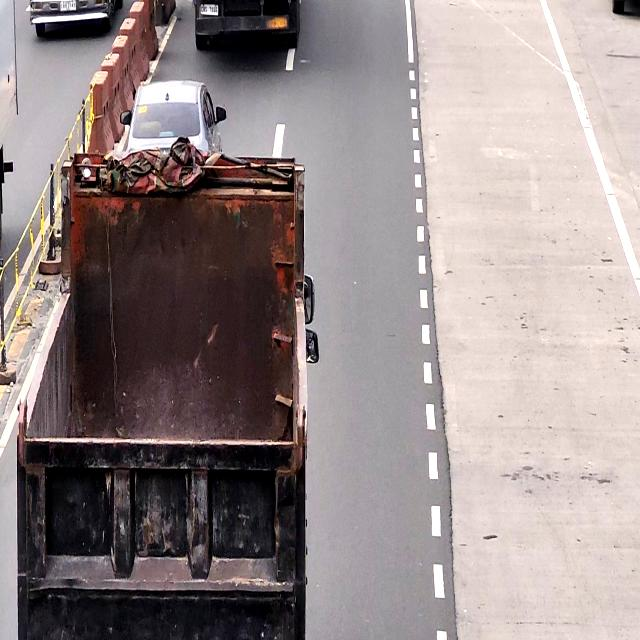Car: (127, 80, 221, 153)
Truck: (39, 152, 309, 640)
